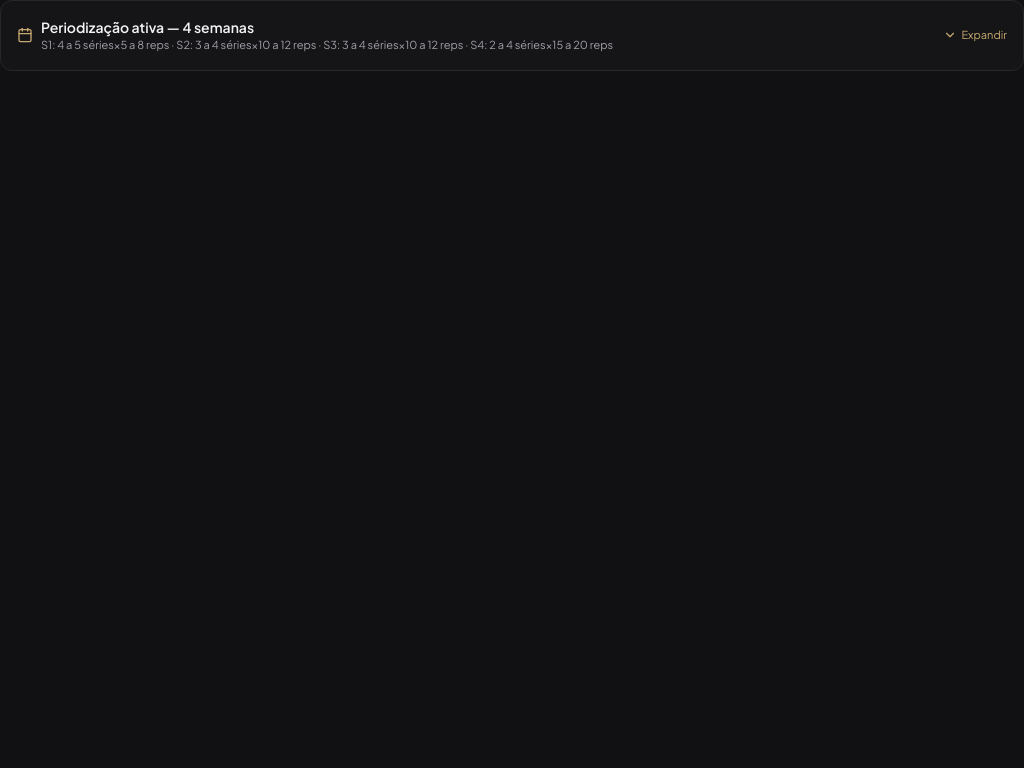
Scenario: WorkoutPeriodizationEditor — minimizada por padrão › abre minimizada com o resumo das semanas e expande ao tocar
Check: the text "Periodização ativa — 4 semanas" is shown, box x1=41 y1=18 x2=254 y2=36
Check: the button "Trocar só nesta semana" is not shown
What coordinates should you click on to do the following:
click the text "Expandir"
I would click on:
 (975, 35)
Its box is x1=943 y1=27 x2=1007 y2=44.
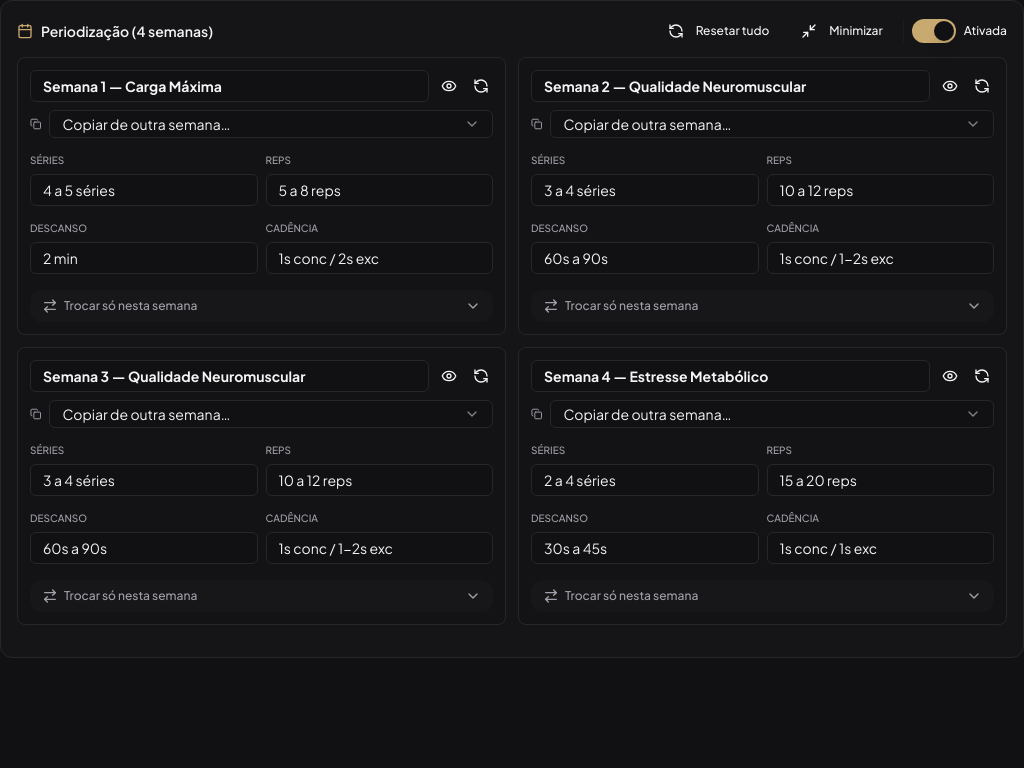
Check: the number of buttons "Trocar só nesta semana" is 4, box x1=30 y1=290 x2=493 y2=322; x1=531 y1=290 x2=994 y2=322; x1=30 y1=580 x2=493 y2=612; x1=531 y1=580 x2=994 y2=612
